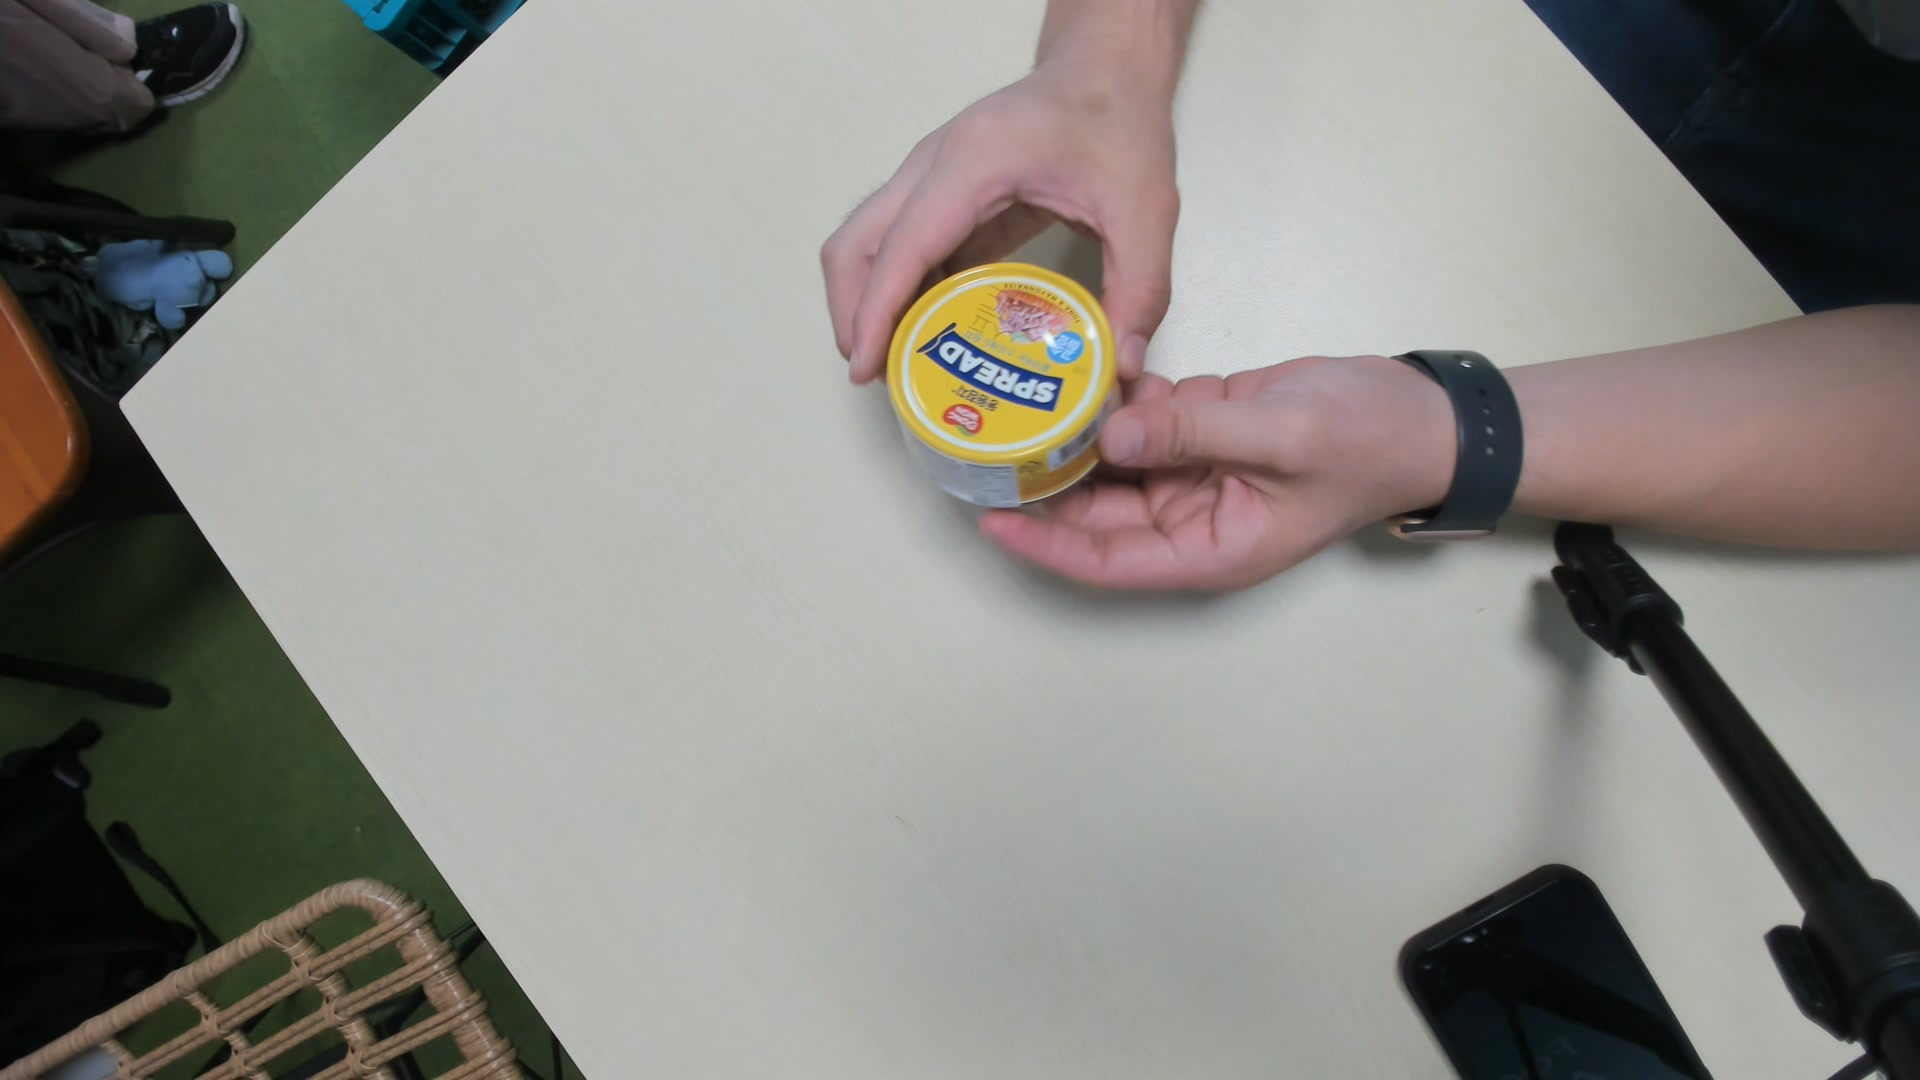OtherSauceDressing_0-99g_NonHalal_NonHealthy: (887, 269, 1141, 514)
